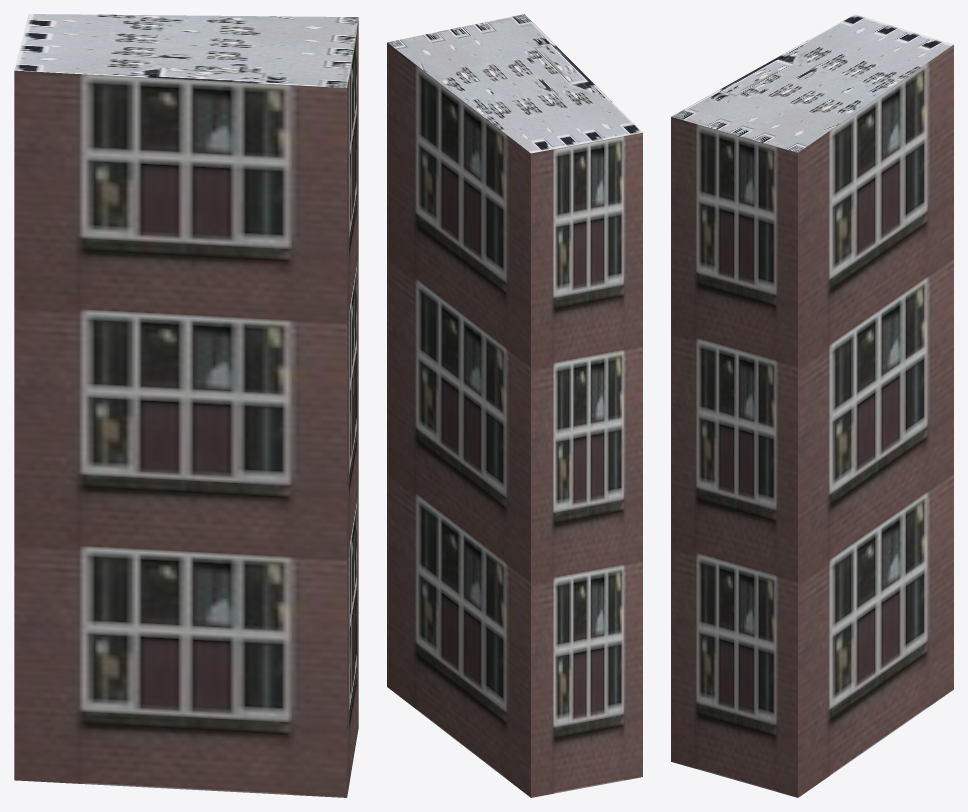
The model's file is ResTex__2926.fbx.
3 views of the same model, side by side, from view 1: azimuth 30°, elevation 25°; view 2: azimuth 150°, elevation 25°; view 3: azimuth 270°, elevation 25° (orthographic). The views are drawn at different scales.
Visible parts, largest first — view 1: CityEngineMaterial_12_m, CityEngineMaterial_4_m; view 2: CityEngineMaterial_12_m, CityEngineMaterial_4_m; view 3: CityEngineMaterial_12_m, CityEngineMaterial_4_m.
Part boxes in pixels (x1,y1,x2,y2): CityEngineMaterial_12_m: (14,19,358,797); CityEngineMaterial_4_m: (14,14,358,87); CityEngineMaterial_12_m: (387,42,642,797); CityEngineMaterial_4_m: (387,14,642,153); CityEngineMaterial_12_m: (671,45,953,797); CityEngineMaterial_4_m: (671,14,953,152).
Size of the model in its own units: 4.16 by 9 by 3.58.
Materials: 2 (2 with a texture image).
